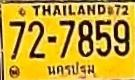2: (28, 20, 43, 58)
5: (95, 19, 110, 56)
7: (9, 20, 25, 59), (59, 19, 74, 57)
8: (78, 19, 92, 56)
9: (113, 19, 129, 55)
NPT: (45, 60, 96, 80)
